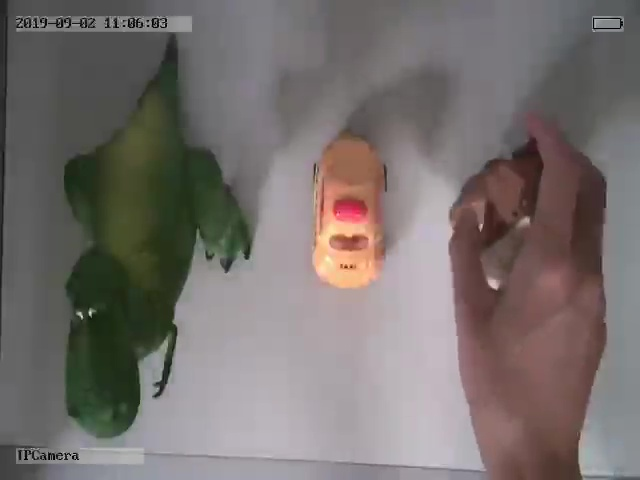car: (312, 132, 390, 290)
rex: (62, 53, 252, 439)
